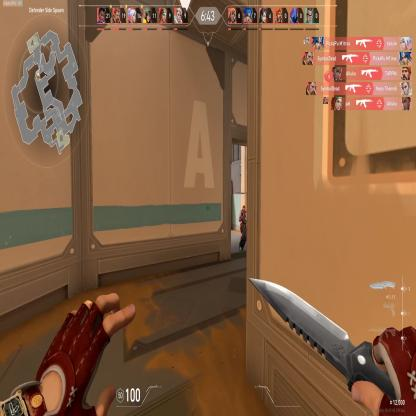enemy: (237, 203, 247, 252)
